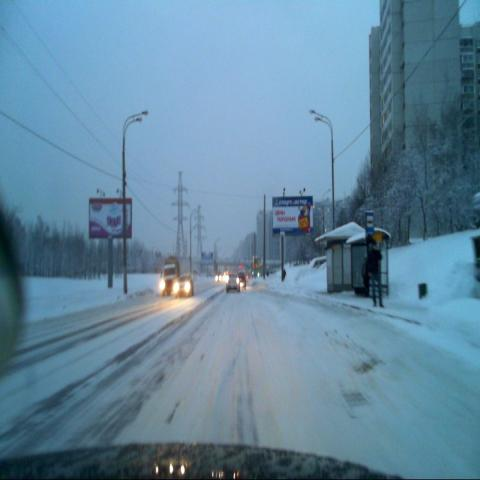5_16: (366, 211, 374, 236)
